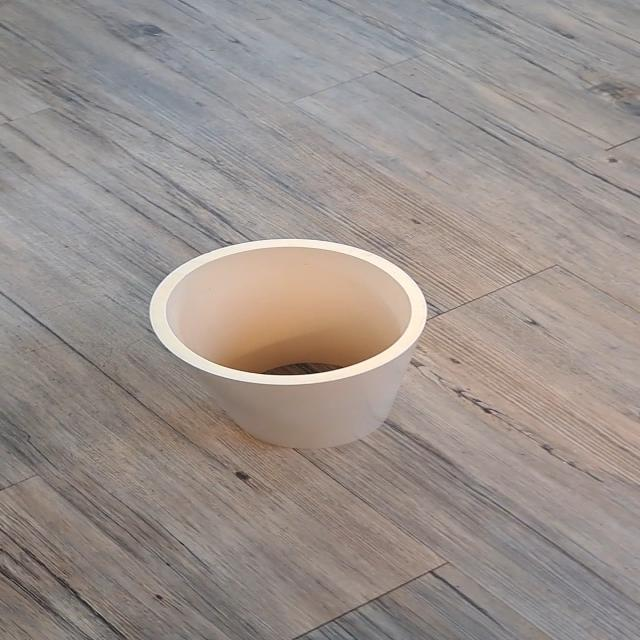CORAL: (125, 197, 457, 462)
